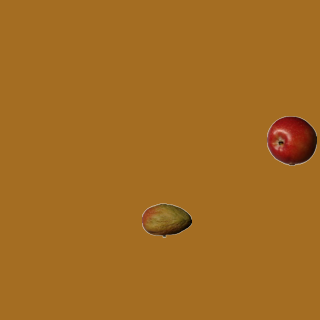Apple Braeburn: (266, 115, 316, 165)
Papaya: (141, 195, 191, 245)
